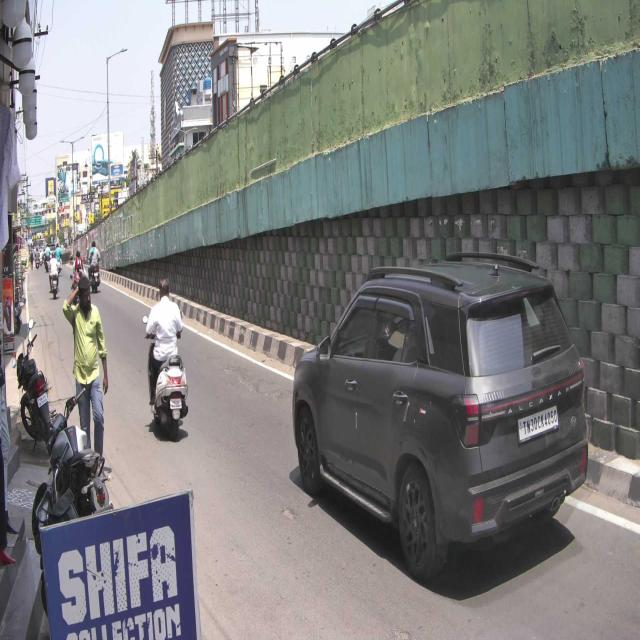single_rider: (144, 275, 189, 441)
